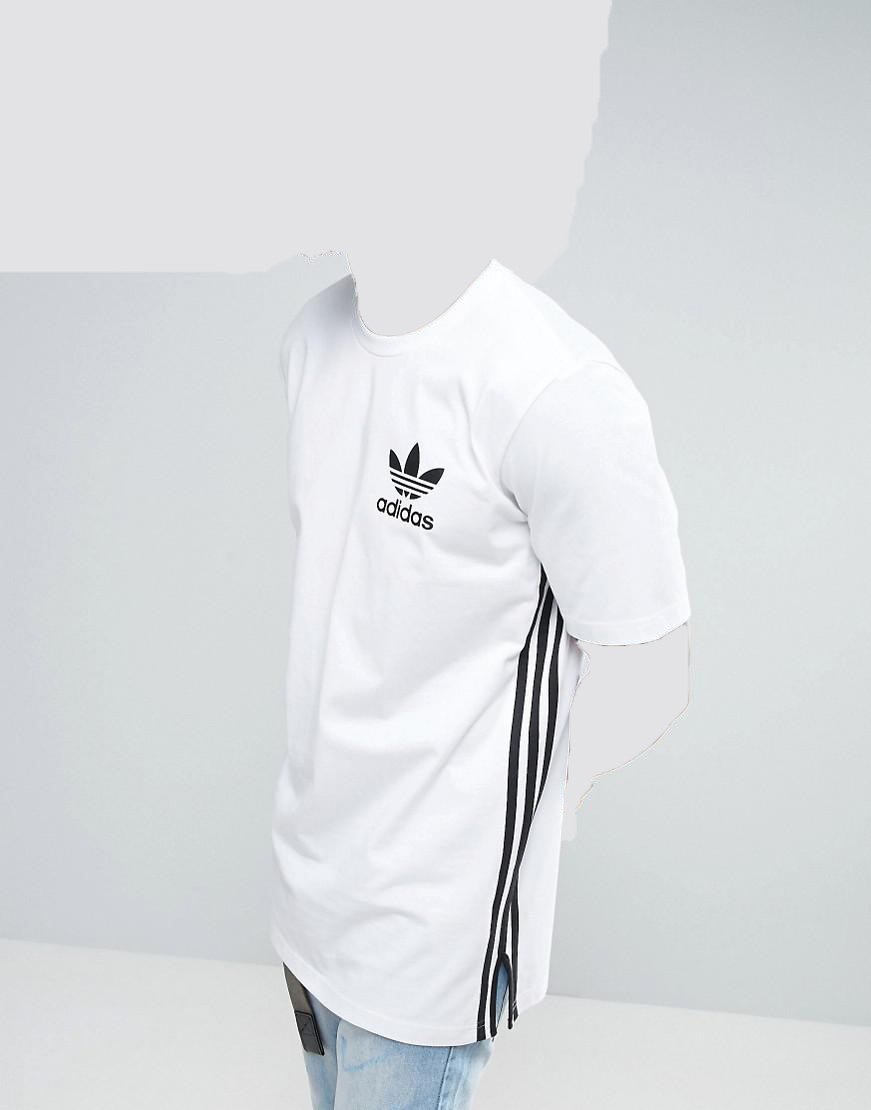teeshirt: (264, 259, 703, 1027)
